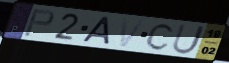2: (53, 12, 81, 42)
A: (81, 16, 113, 46)
C: (144, 22, 176, 52)
P: (22, 8, 56, 38)
U: (170, 23, 207, 56)
V: (118, 17, 148, 49)
